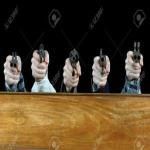Pistol: (69, 48, 79, 80), (100, 48, 106, 90), (38, 44, 44, 66)
